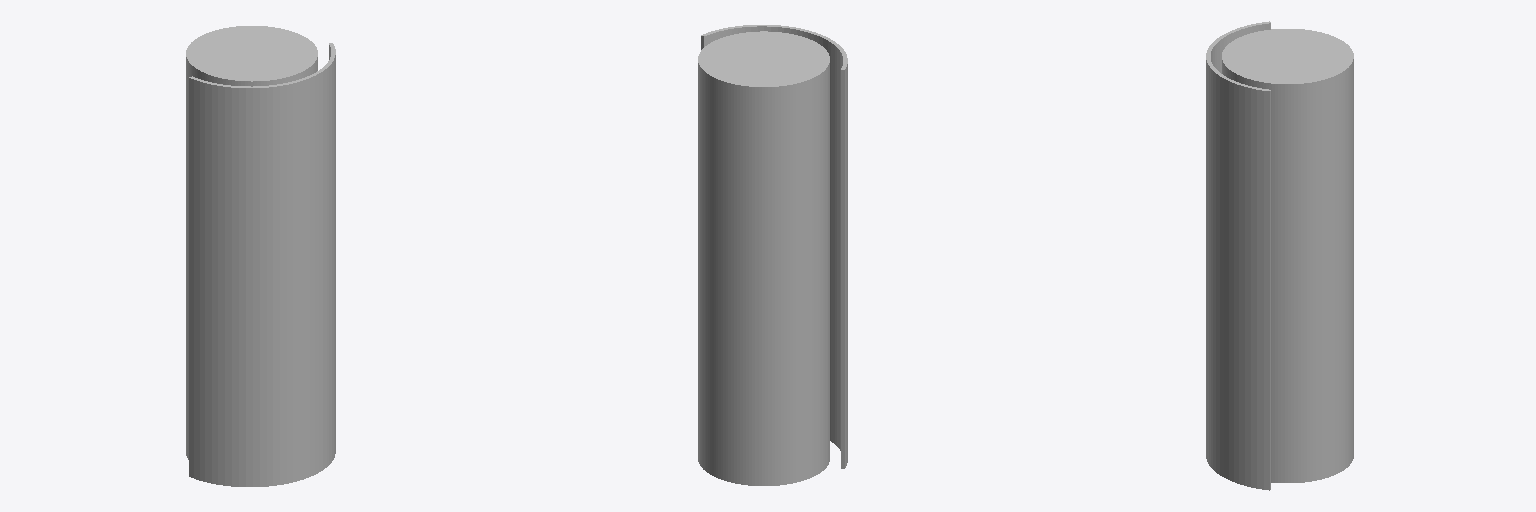
Rendered from king-building.obj.
3 renders of one model, left to right at view 1: azimuth 30°, elevation 25°; view 2: azimuth 150°, elevation 25°; view 3: azimuth 270°, elevation 25°, orthographic.
Parts seen in each view (by area): view 1: Solar_Panel, Building; view 2: Building, Solar_Panel; view 3: Building, Solar_Panel.
Part boxes in pixels (x1,y1,x2,y2): Solar_Panel: (189, 43, 335, 486); Building: (186, 26, 317, 459); Building: (698, 31, 829, 485); Solar_Panel: (701, 25, 847, 468); Building: (1222, 29, 1353, 482); Solar_Panel: (1206, 21, 1270, 490).
Bounding box in the file's own units: 7.55 × 20 × 6.71.